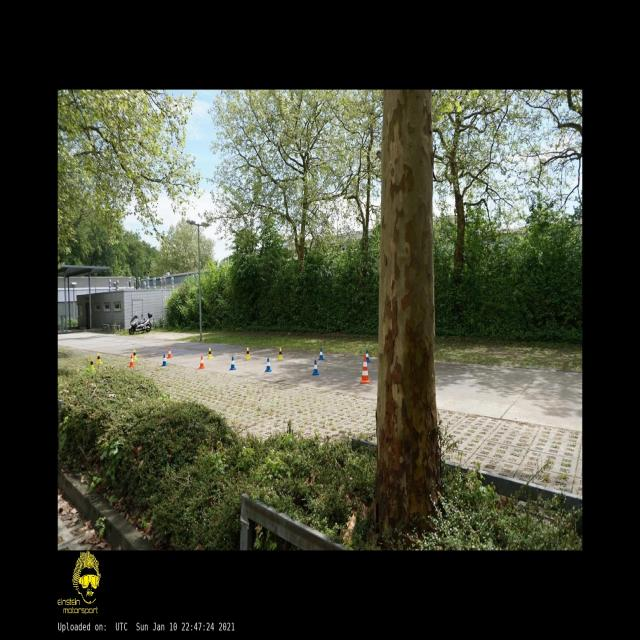blue_cone: (312, 360, 320, 375), (264, 358, 272, 372), (230, 356, 236, 370), (162, 354, 168, 366), (318, 348, 324, 360), (365, 350, 370, 362)
large_orange_cone: (360, 356, 371, 384)
orange_cone: (128, 354, 134, 368), (199, 356, 205, 368), (167, 348, 172, 358)
yellow_cone: (245, 347, 251, 359), (278, 348, 283, 360), (97, 352, 101, 364), (90, 357, 94, 369), (133, 348, 137, 359), (208, 348, 212, 358)
